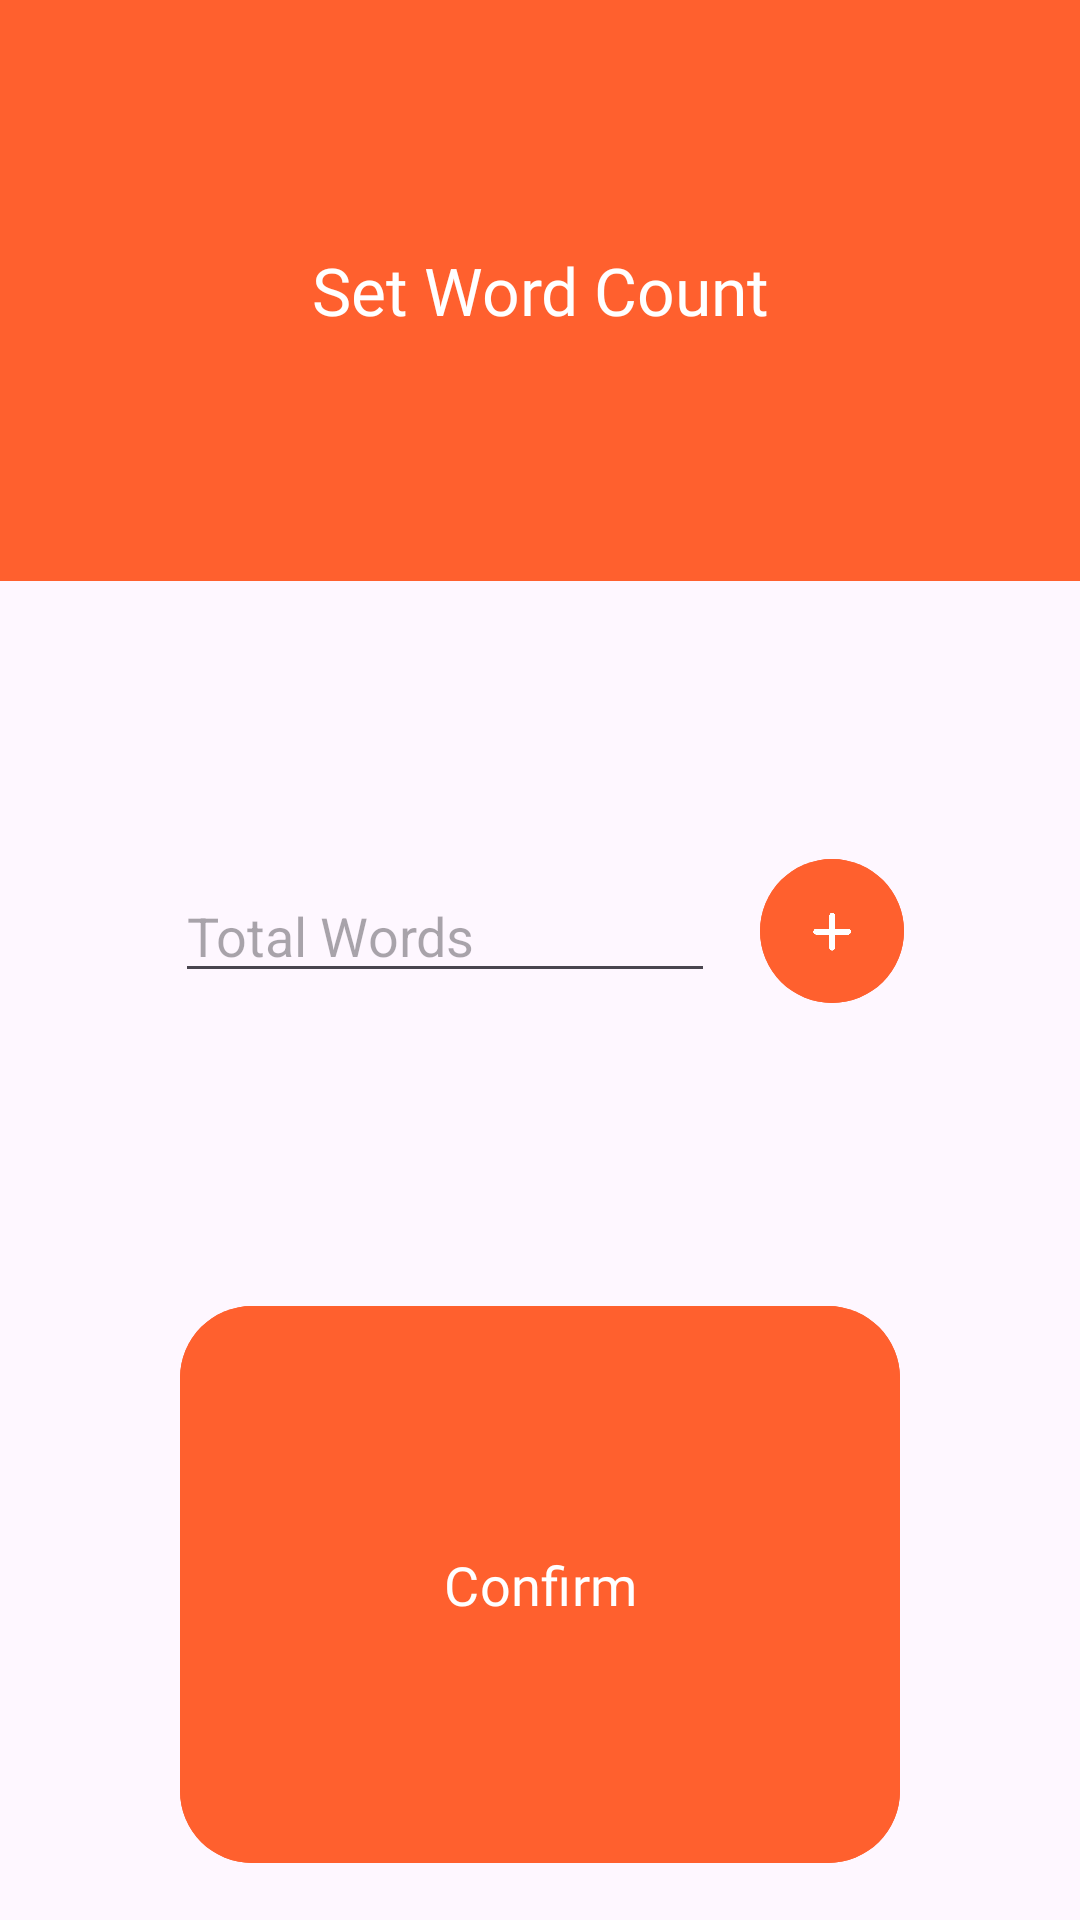

Named icons in this screenshot (1080*1920) and their centers, (x,y):
plus: (832,931)
